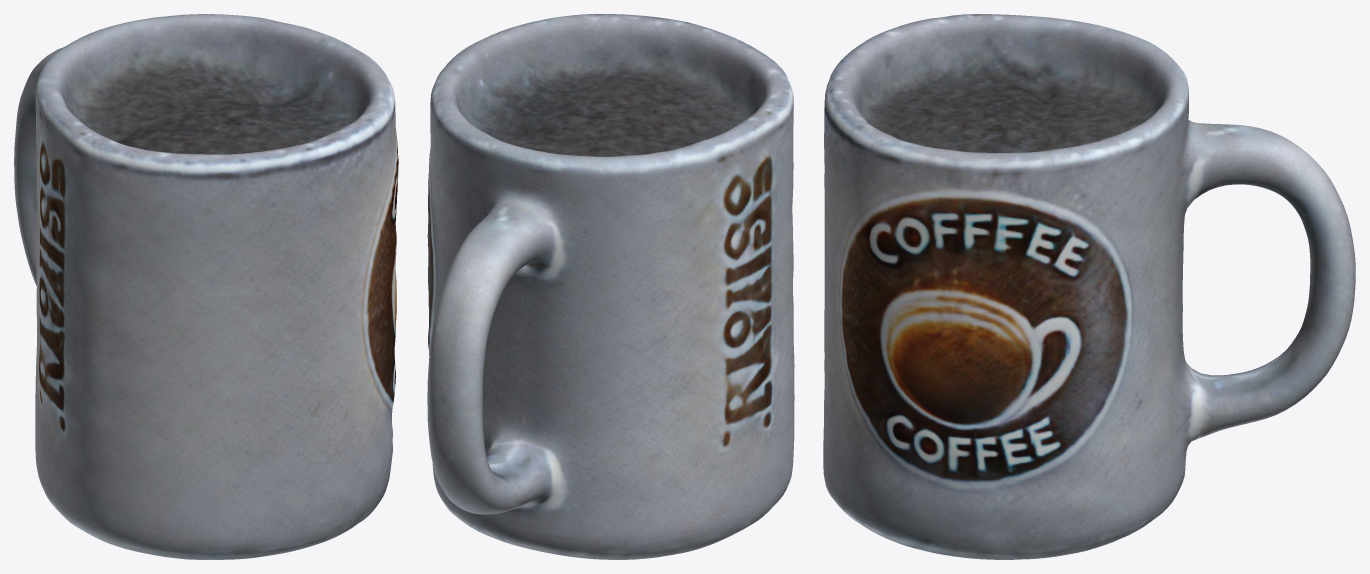
The model's file is coffee_mug_refined_1.glb.
The picture shows the model from 3 angles, left to right: view 1: azimuth 30°, elevation 25°; view 2: azimuth 150°, elevation 25°; view 3: azimuth 270°, elevation 25°; orthographic projection.
Parts seen in each view (by area): view 1: mesh; view 2: mesh; view 3: mesh.
Boxes of the visible parts, bbox=[...] form: mesh: bbox=[14, 14, 398, 559]; mesh: bbox=[427, 14, 794, 559]; mesh: bbox=[823, 14, 1355, 559].
Bounding box in the file's own units: 0.6802 × 0.8602 × 0.9997.
Materials: 1 (1 with a texture image).
